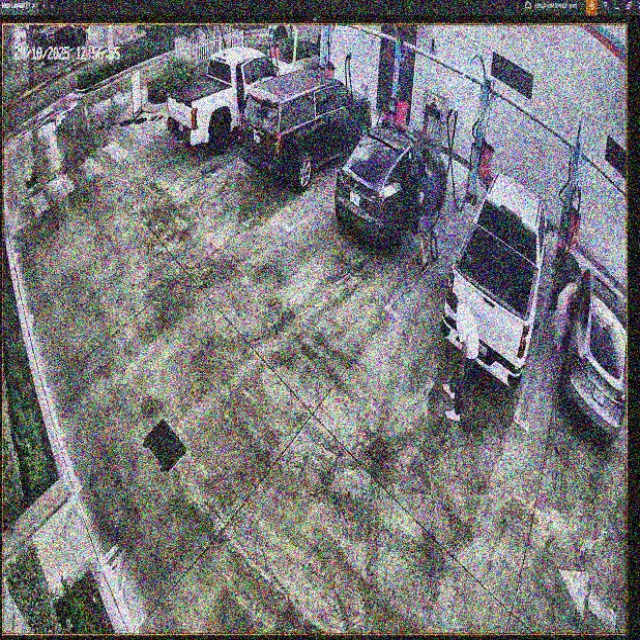Car: (440, 176, 547, 383), (242, 67, 371, 185), (335, 124, 448, 240), (169, 51, 298, 149)
